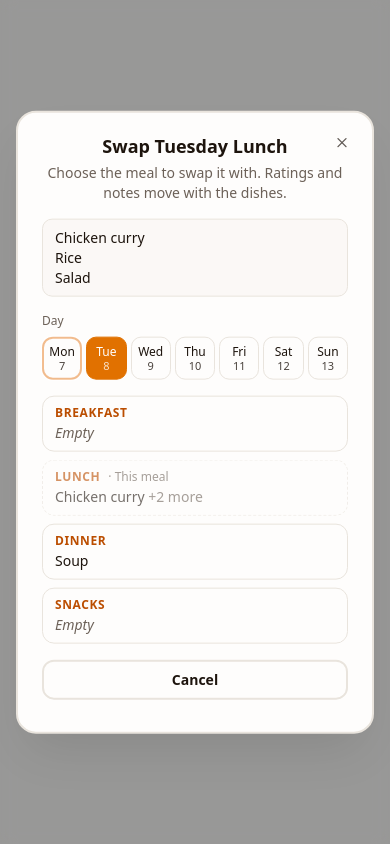
Test case: meal swap dialog › stays open and shows the problem when the swap fails (returned)
Click the button "Dinner Soup".
click(81, 540)  # box [42,523,348,579]
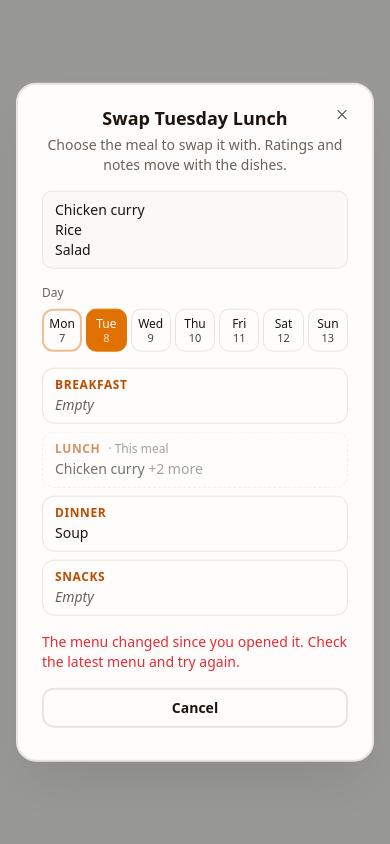
Check: the heading "Swap Tuesday Lunch" is shown, box [102,106,288,130]
Check: the message reads "The menu changed since you opened it. Check the latest menu and try again.", box [42,631,347,670]
